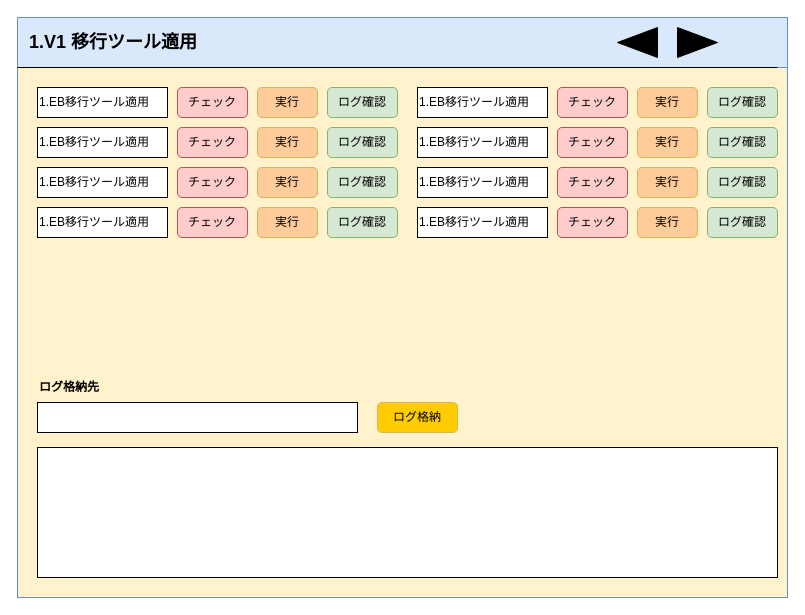
Image size: 805x615. Some labels were removed from this diagram. The centre of each missing label's shape, as x and y in pixels:
パス: pixel 197 417
ログ出力（全ファイル）: pixel 407 512
